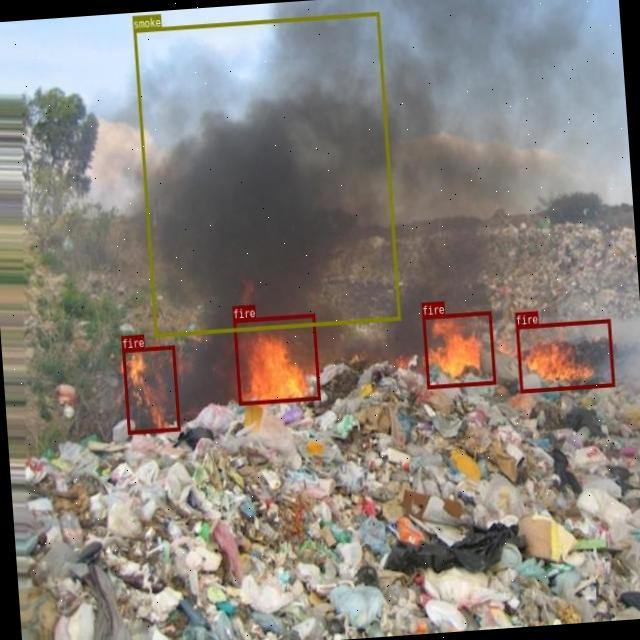fire: (232, 312, 320, 404), (515, 318, 613, 391), (421, 310, 495, 388), (120, 344, 180, 432)
smoke: (132, 12, 400, 336)
